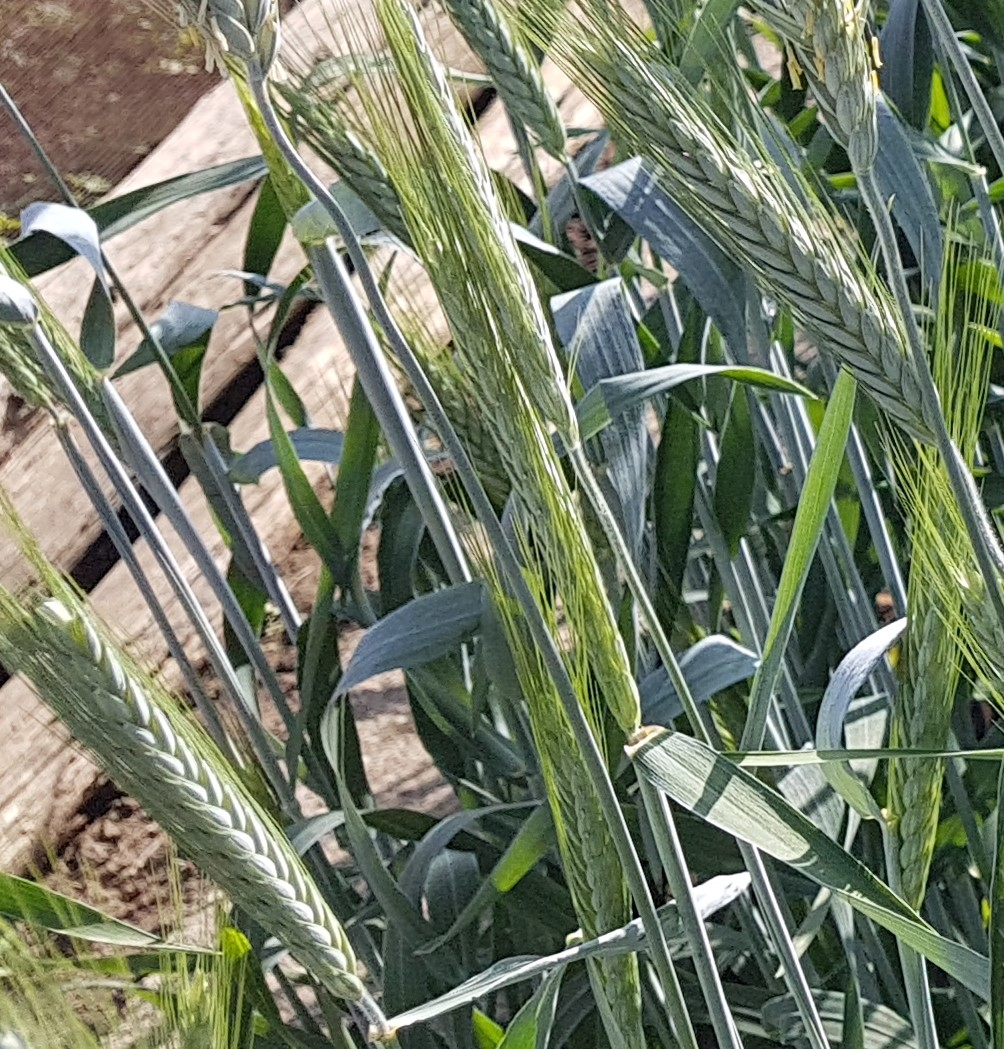Healthy Wheat: (577, 35, 949, 428), (18, 591, 372, 997)
